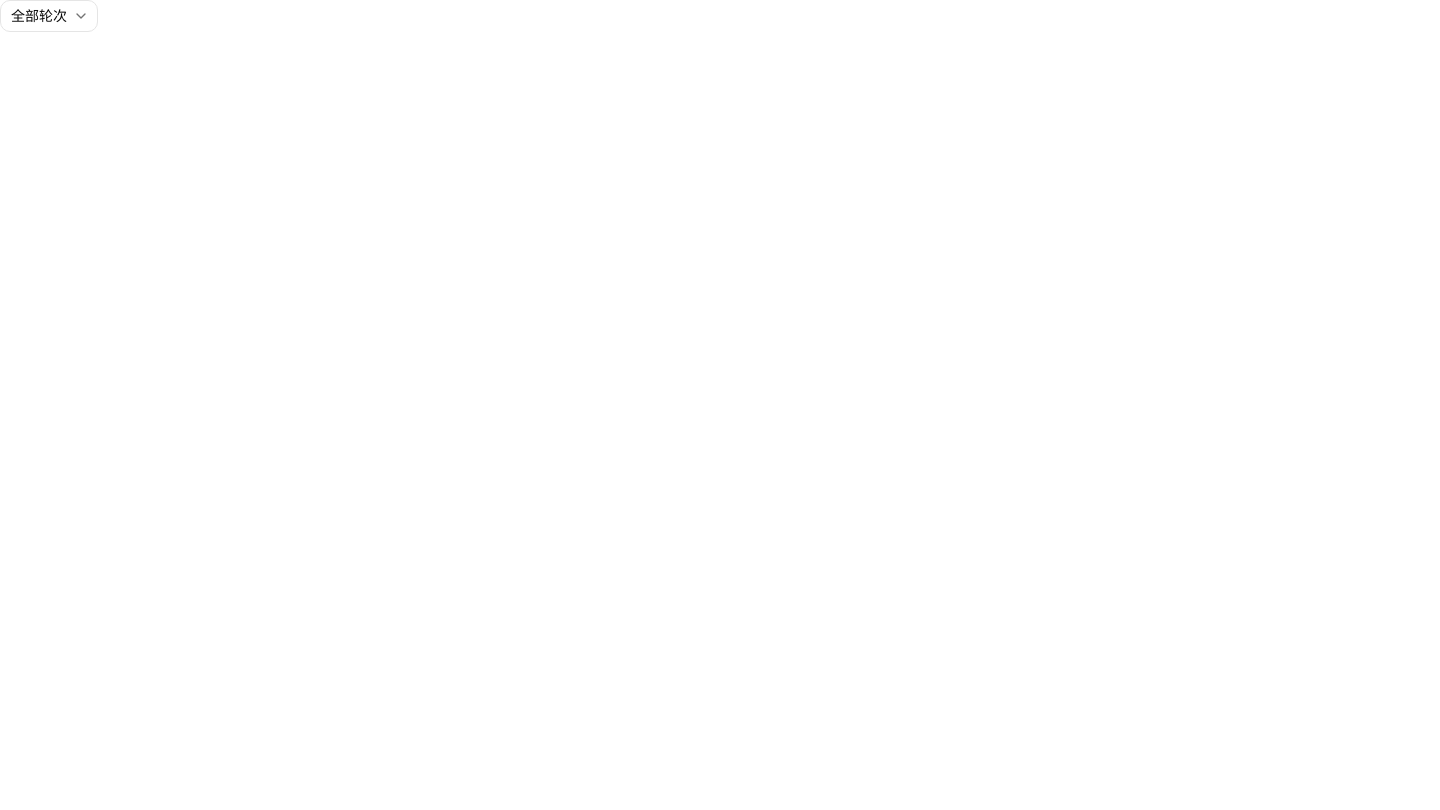
Test: SearchableSelect › filters by description and keywords, then selects by click
The width and height of the screenshot is (1440, 810).
Later steps or results of the test are not shown.
Click the button with aria-label "轮次：全部轮次".
click(49, 16)  # box [0,0,98,32]
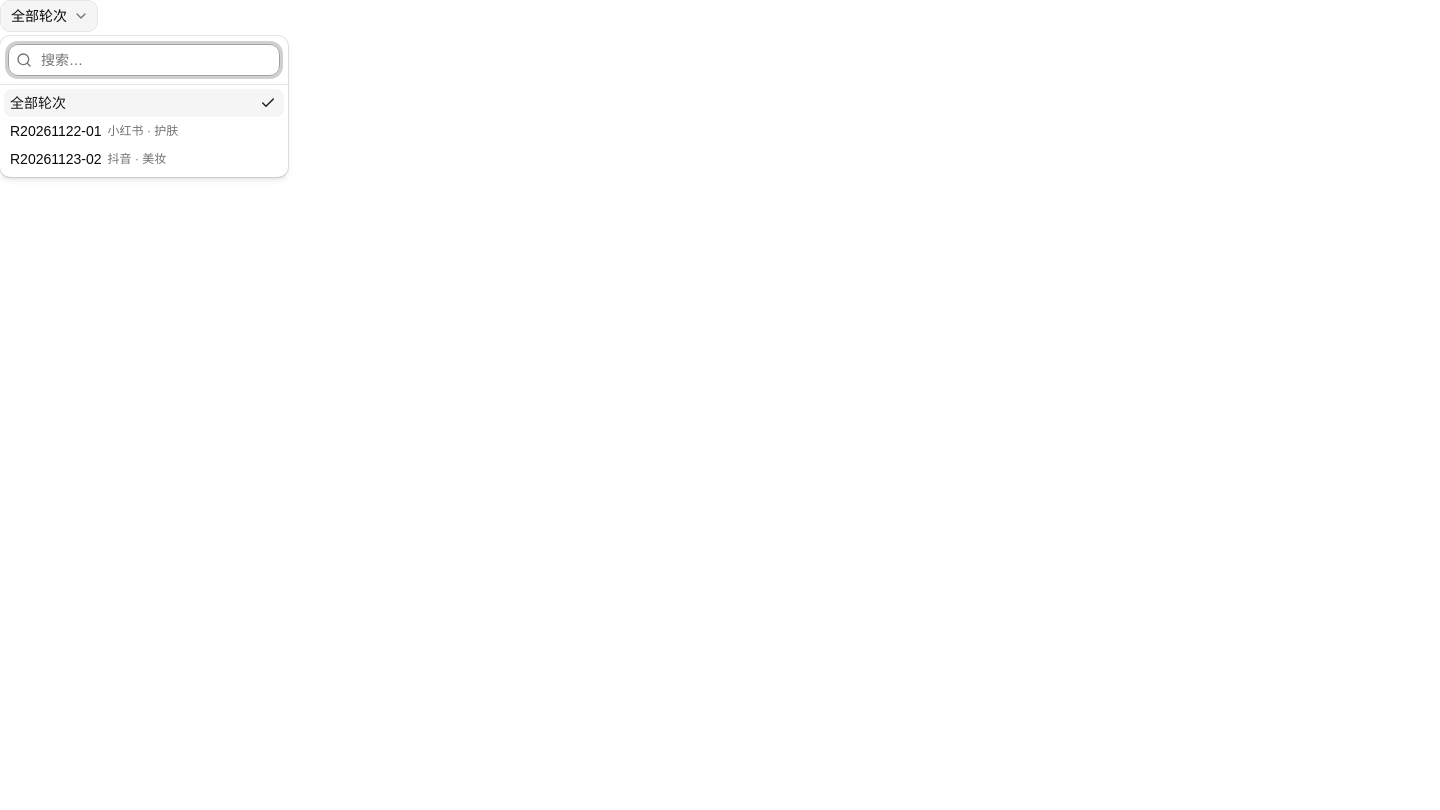
Type "美妆" into the dropdown named "搜索轮次".
click(144, 60); type("美妆")  # box [8,44,280,76]
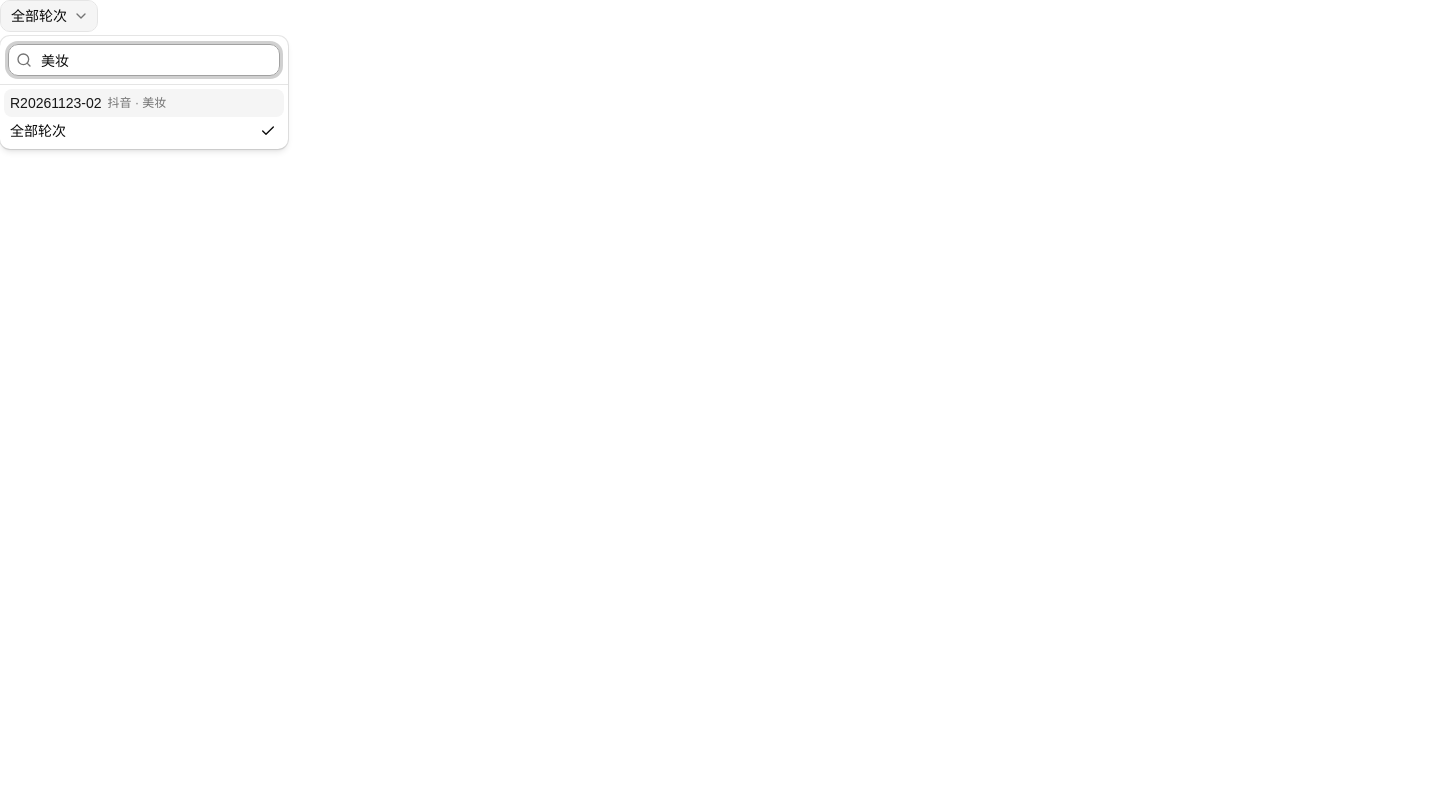
Expected: the option "R20261123-02 抖音 · 美妆" is shown, [4,89,284,117]
Expected: the option "全部轮次" is shown, [4,117,284,145]
Expected: the option "R20261122-01" is gone
Replace the text in the dropdown named "搜索轮次" with "xhs" at (144, 60), box [8,44,280,76]
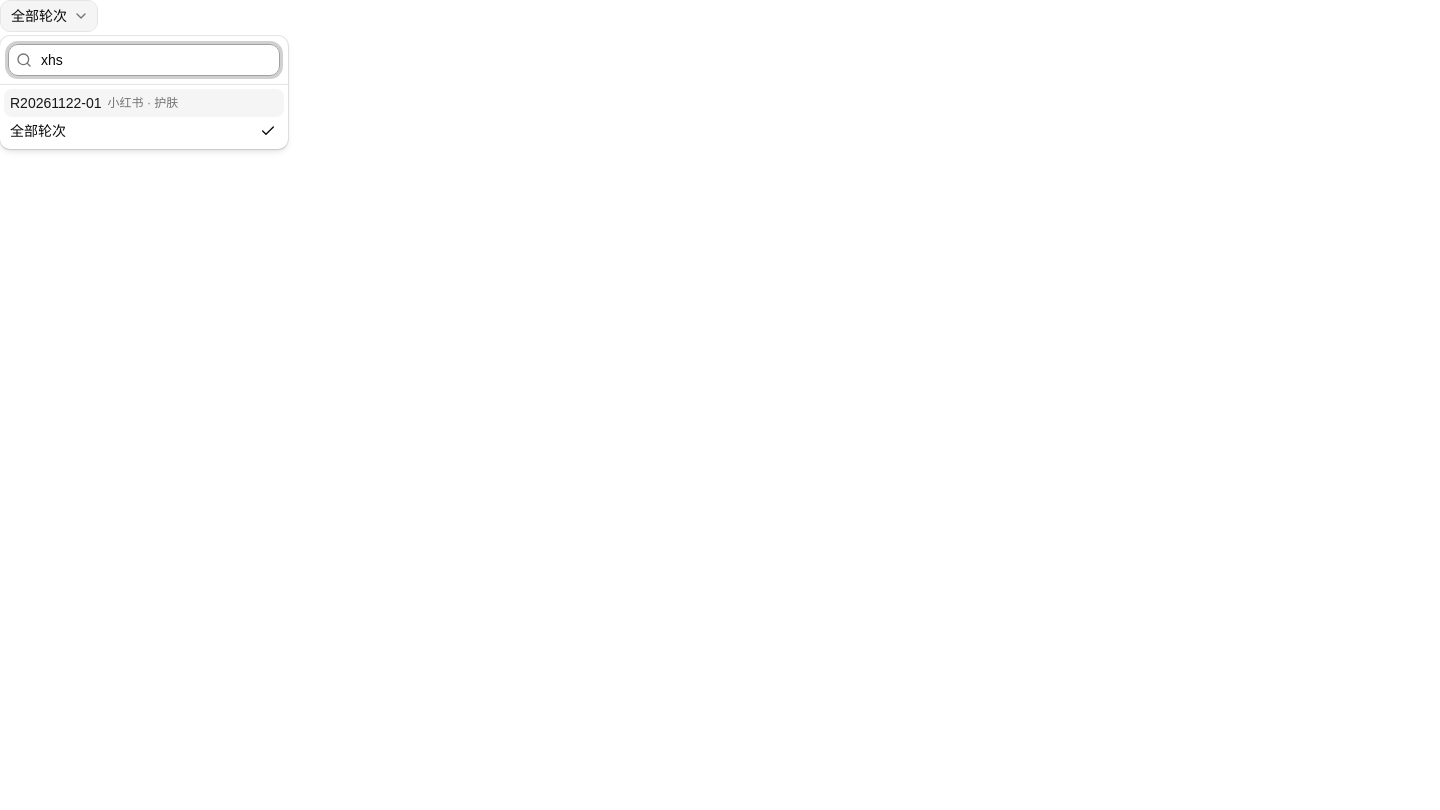
Expected: the option "R20261122-01 小红书 · 护肤" is shown, [4,89,284,117]
